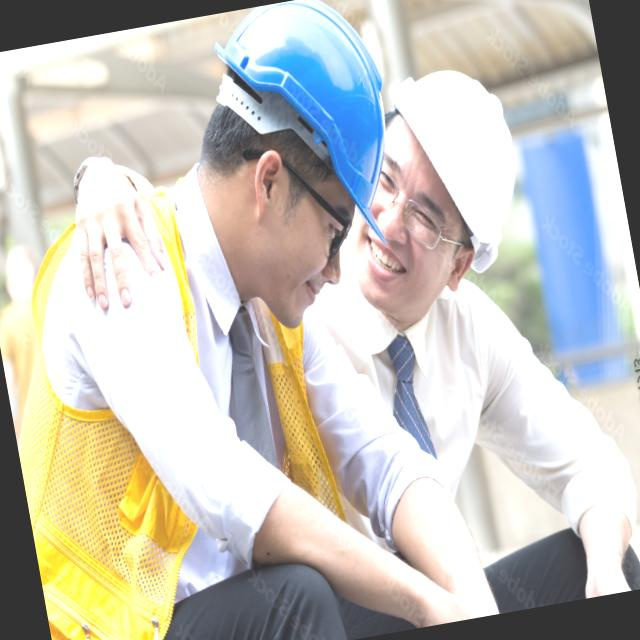helmet: (177, 0, 407, 232), (384, 34, 538, 253)
no-vest: (0, 247, 338, 598), (315, 272, 542, 520)
